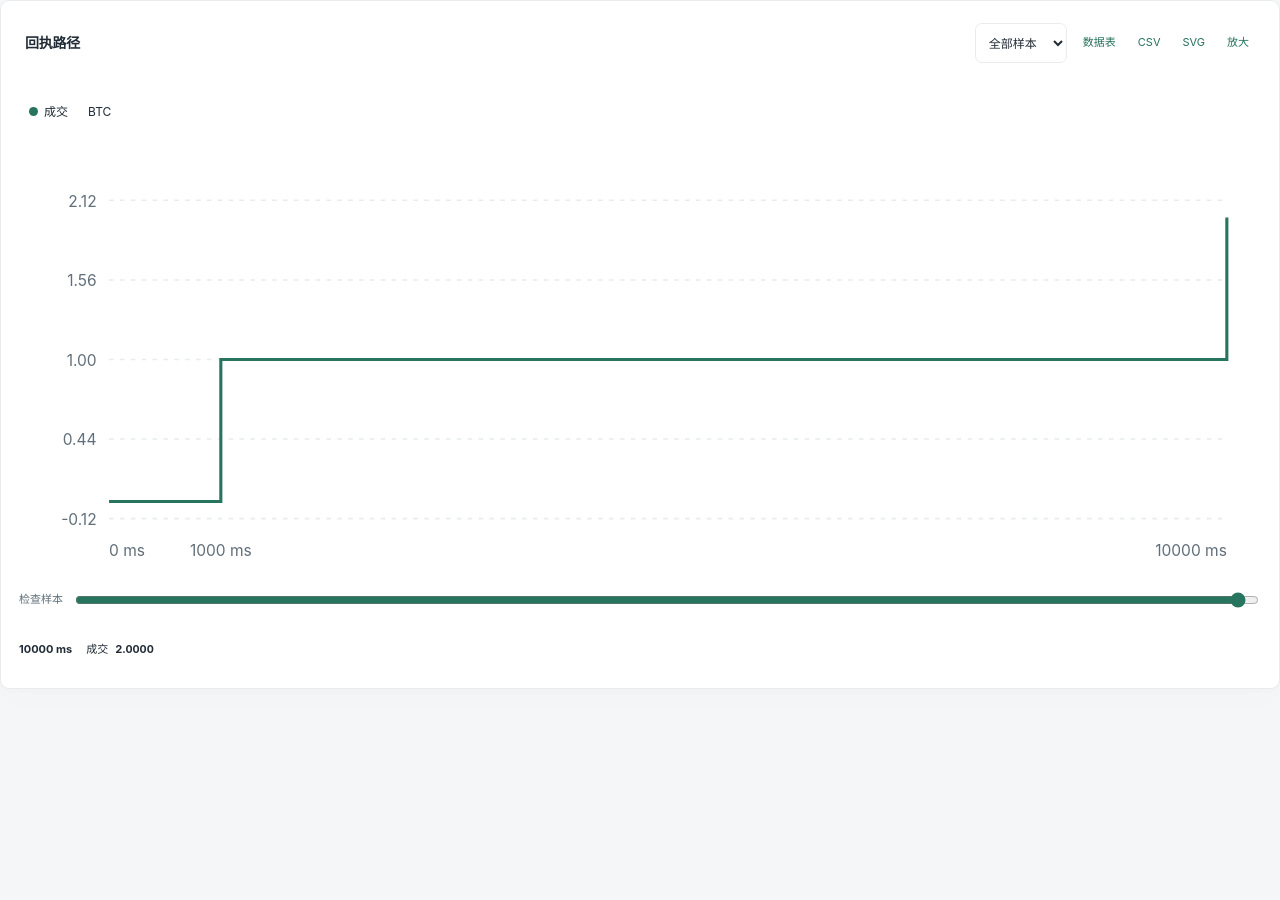
Test: keeps cumulative fills constant until receipt and uses elapsed time for spacing and inspection
Set the slider to "1" at (667, 600), box [75,580,1259,620]
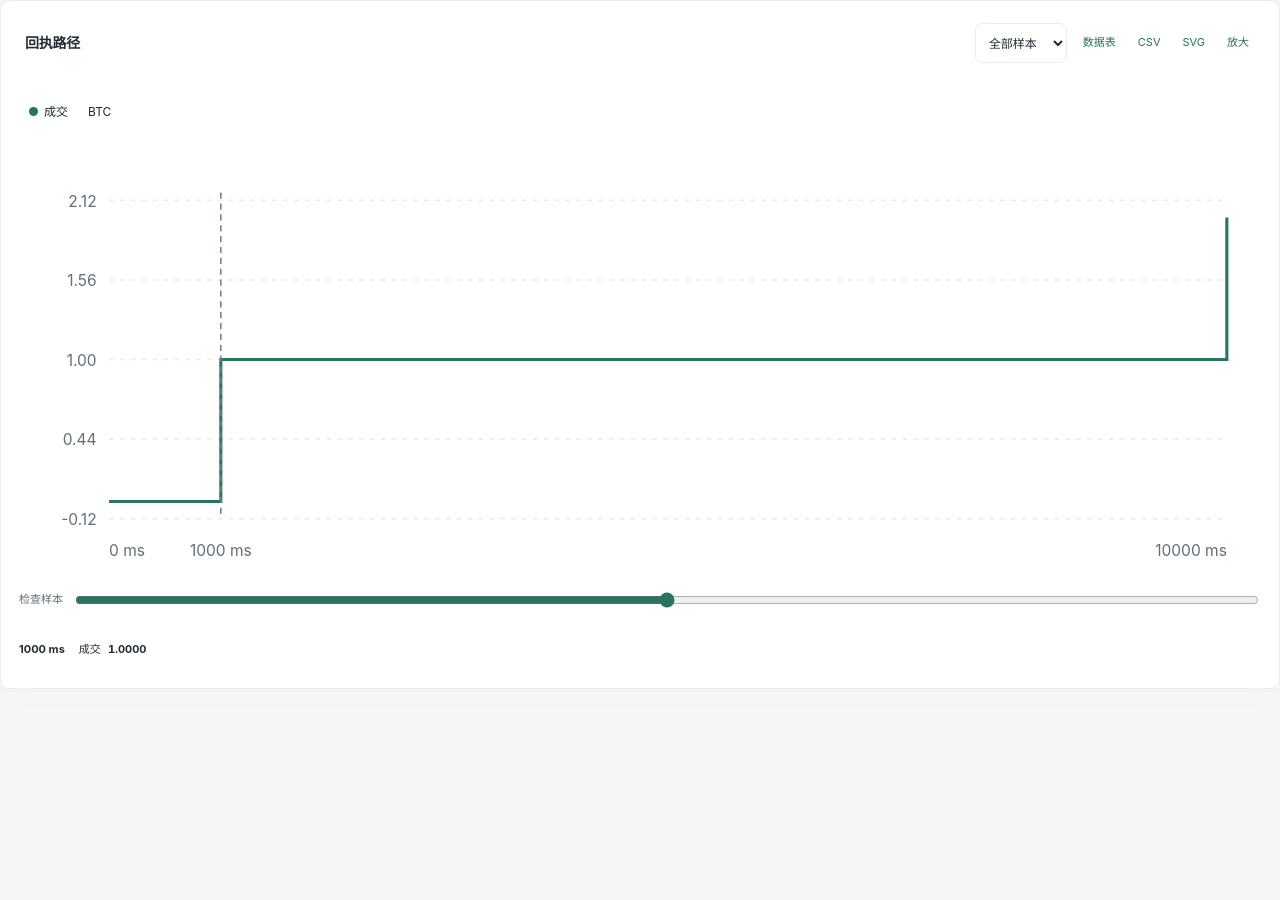
Check: the element with class "s-plot-reading" shows "1000 ms", box [19,642,65,656]
